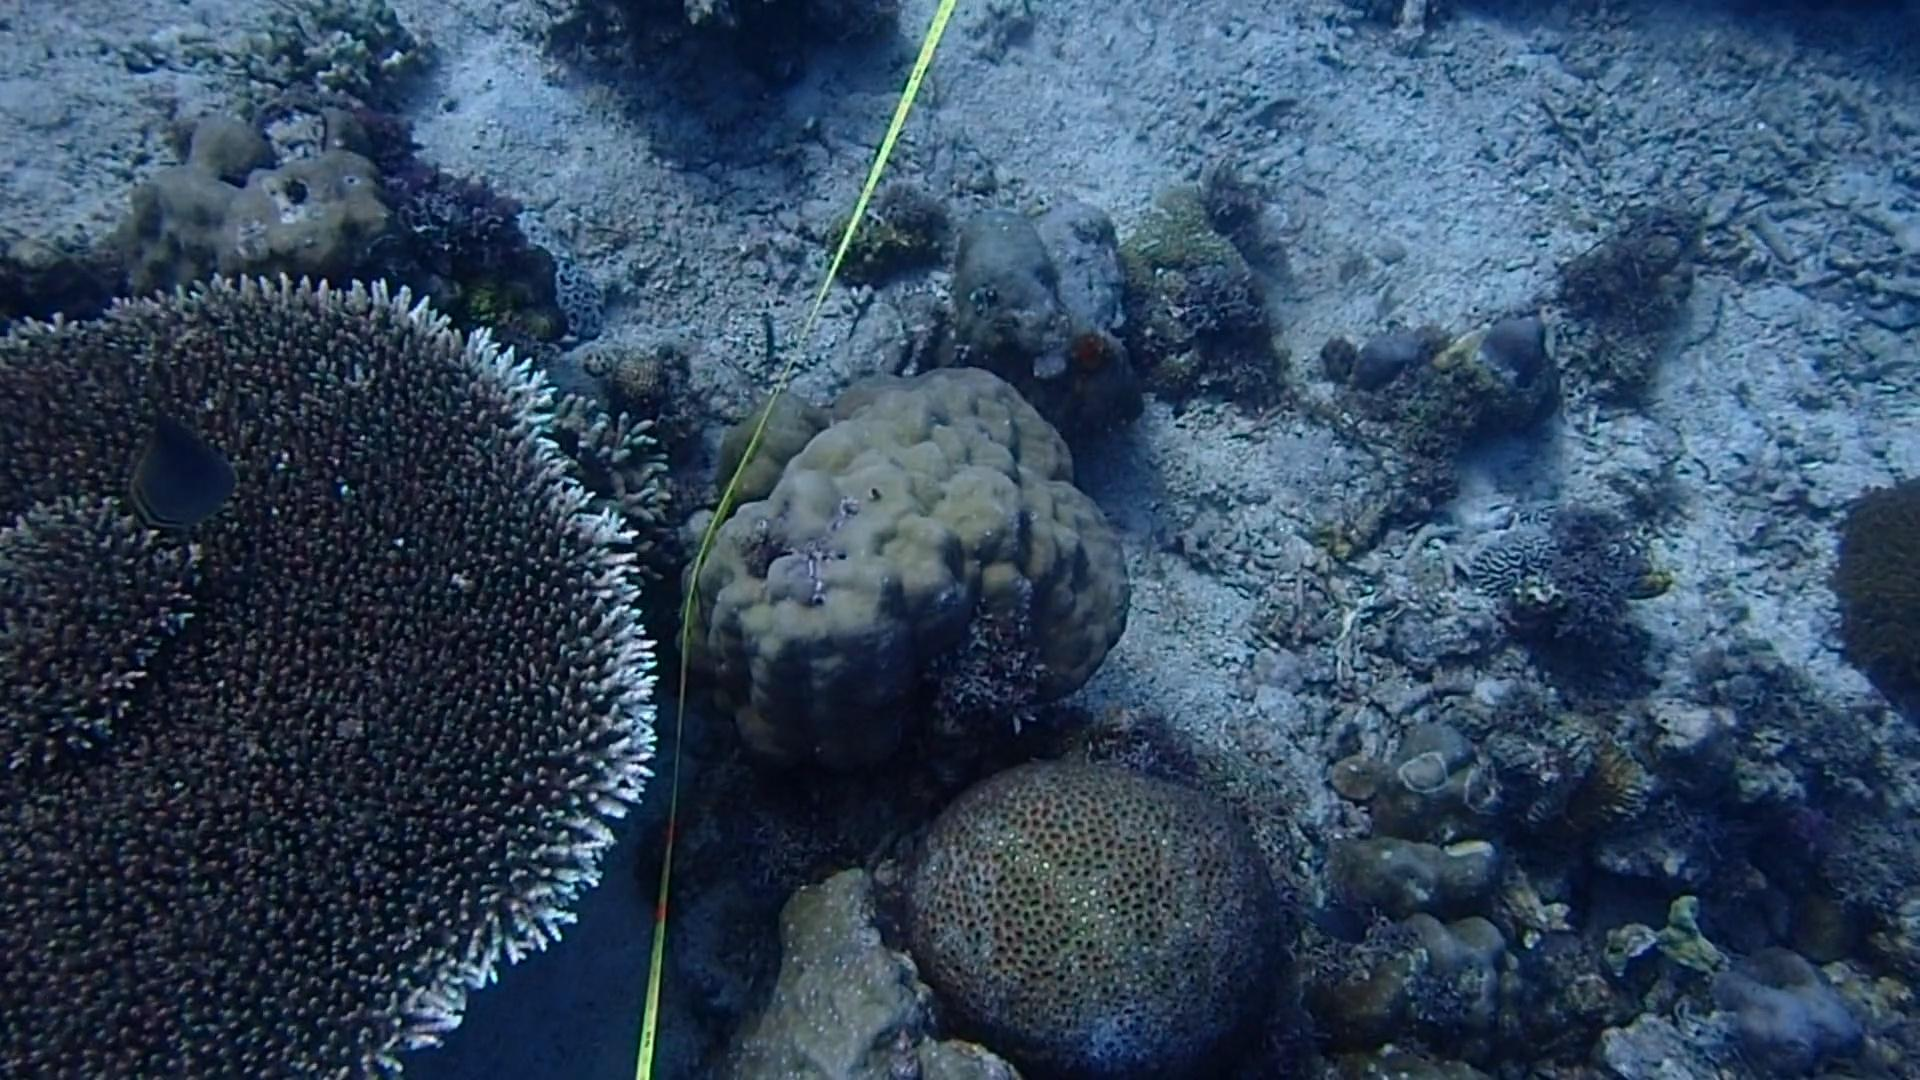Dark Blue Dory: (102, 373, 257, 543)
Light Fish: (1300, 890, 1373, 960)
